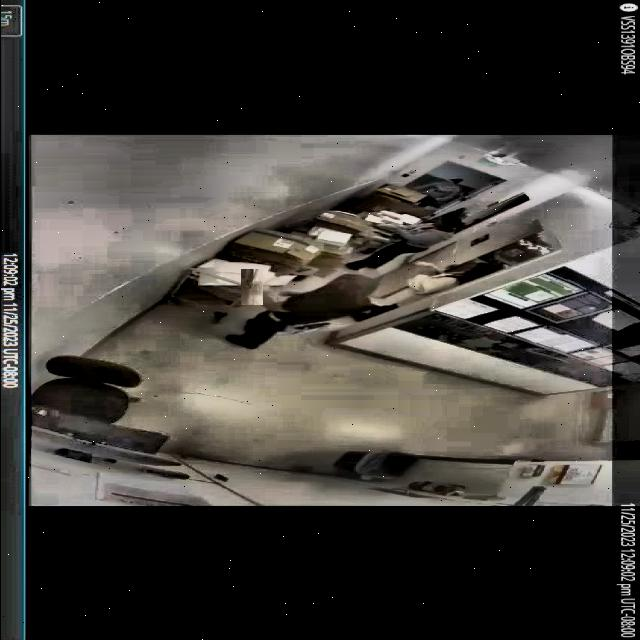not-gloved: (236, 272, 266, 302)
